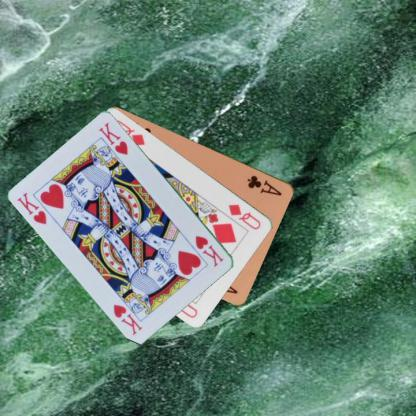Ac: (245, 172, 284, 197)
Kh: (14, 189, 48, 226), (192, 233, 225, 268)
Qd: (226, 201, 263, 231)
